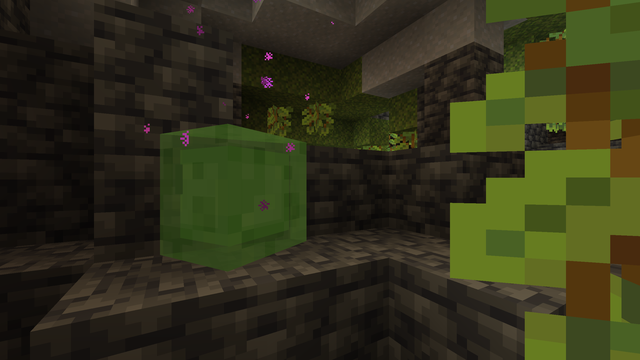slimes: (168, 116, 307, 272)
